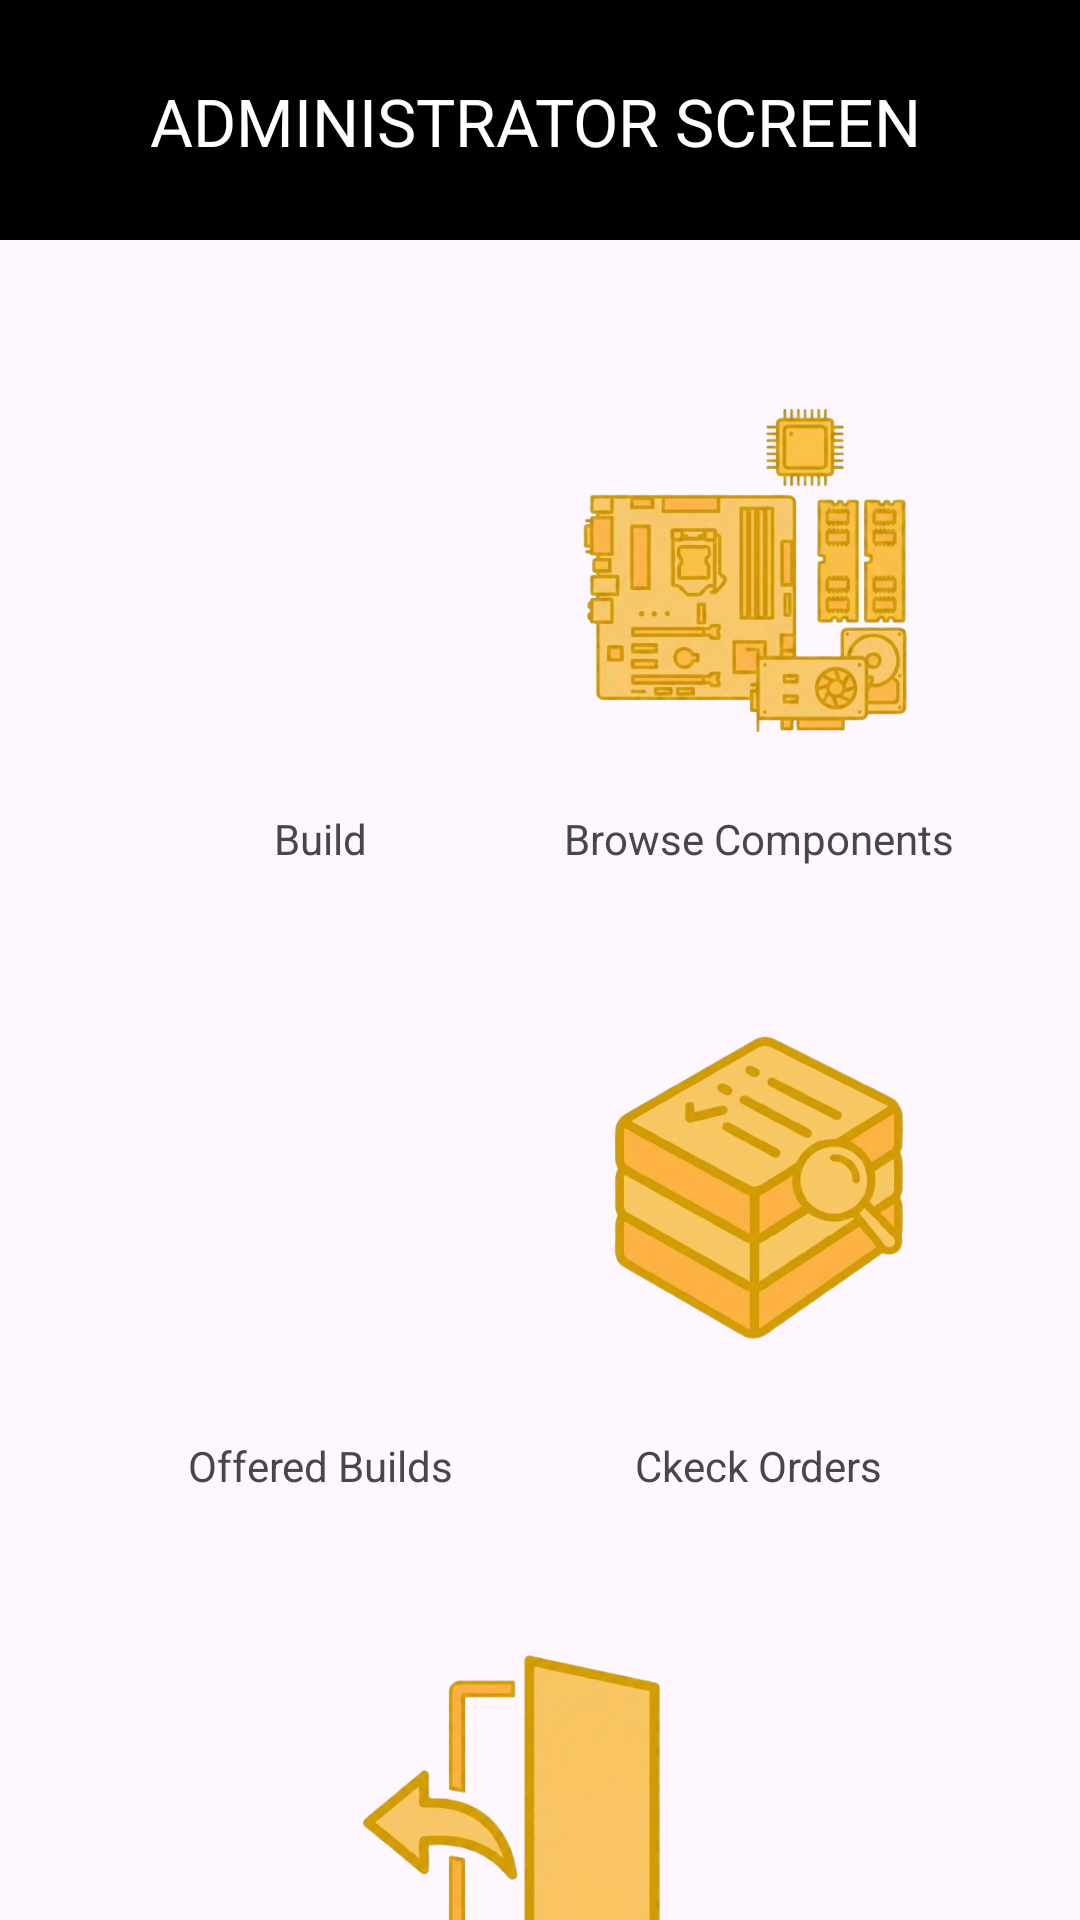

Where icons sit on this 1080 × 1920 app screen, as (x1, y1, x2, y2):
order review: (615, 1036, 903, 1339)
